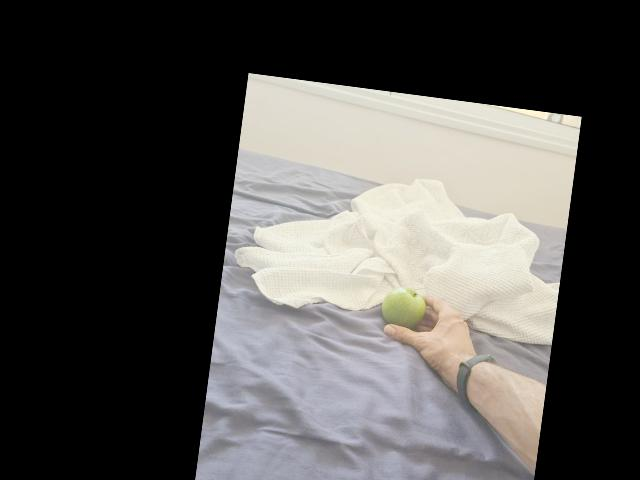apple: (376, 283, 427, 335)
